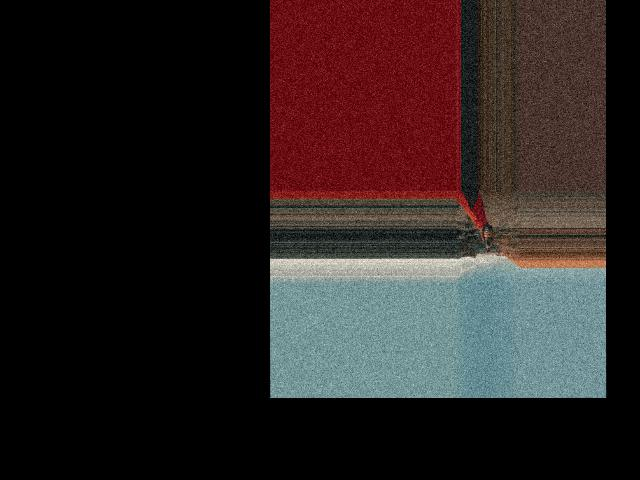beer: (483, 225, 493, 251)
